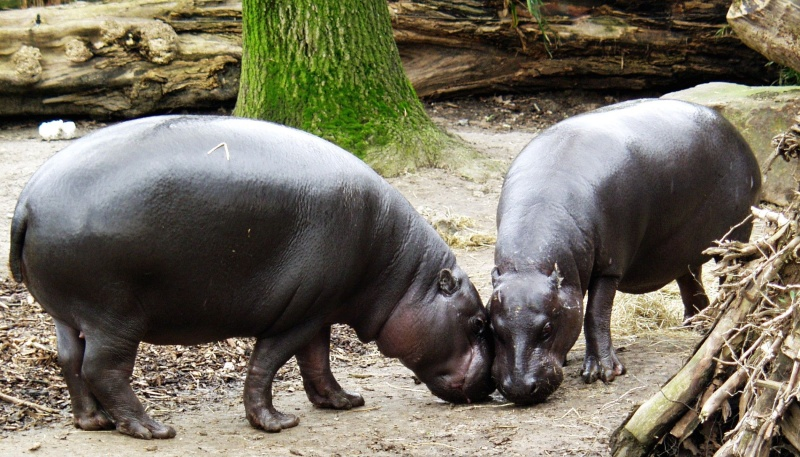hipopotamo: (0, 107, 493, 443), (493, 94, 766, 406)
